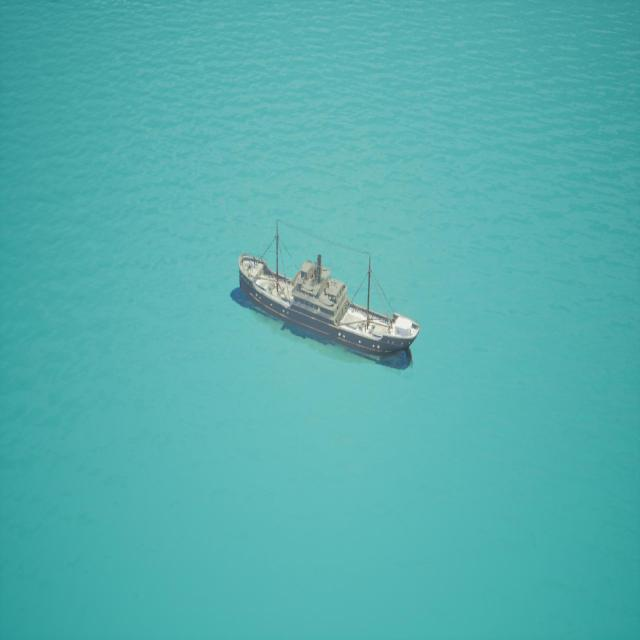fishing ship: (236, 236, 417, 371)
